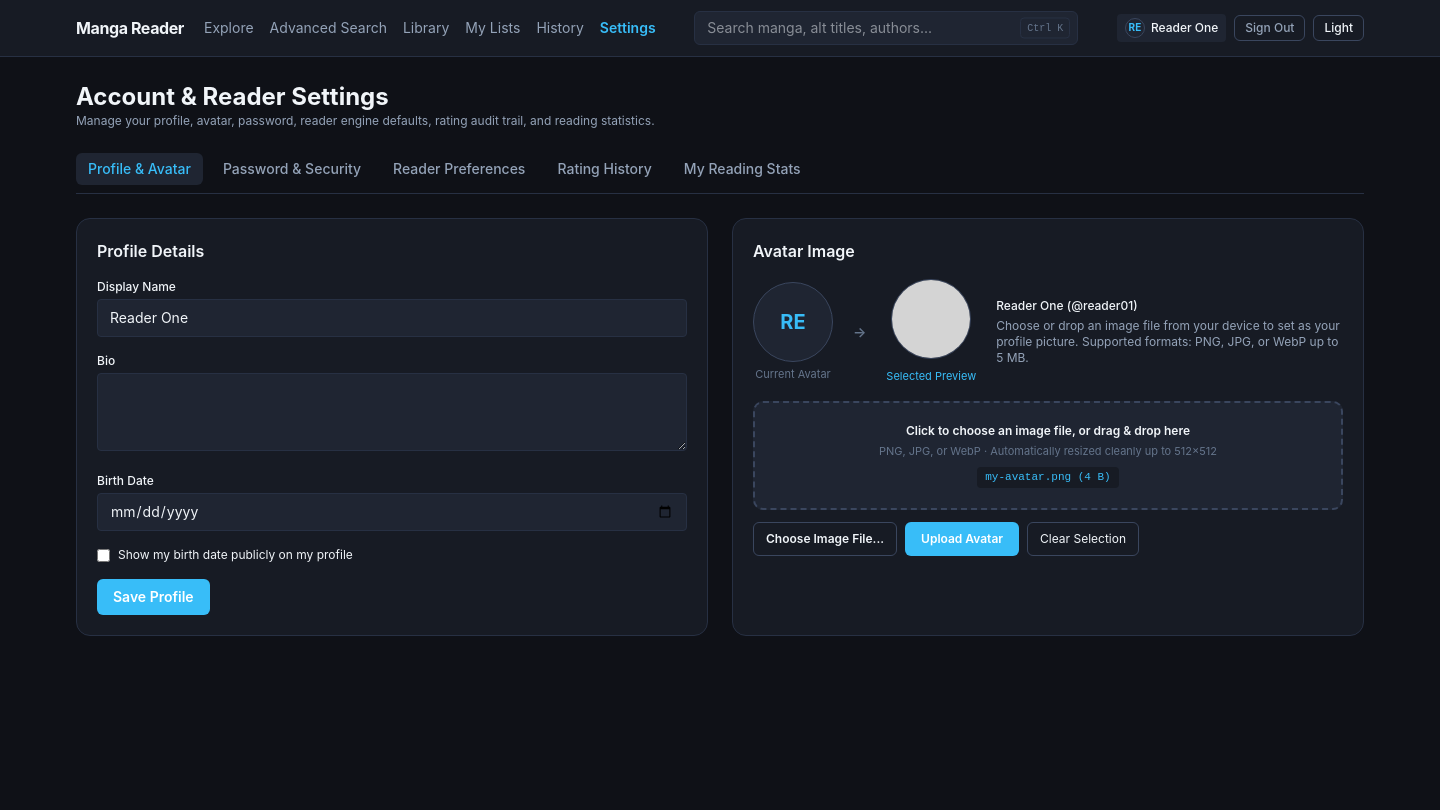
it: Manga Reader Frontend Application › uploads a chosen image file as avatar in AccountSettingsPage without presets
This screenshot has width=1440, height=810.
Earlier steps of the test are not shown.
Expected: the text "Current Avatar" is shown, x1=753 y1=366 x2=833 y2=382
Expected: the text "my-avatar.png (4 B)" is shown, x1=977 y1=467 x2=1119 y2=488
Click the button "Upload Avatar" at {"x": 962, "y": 538}, box x1=905 y1=522 x2=1019 y2=556
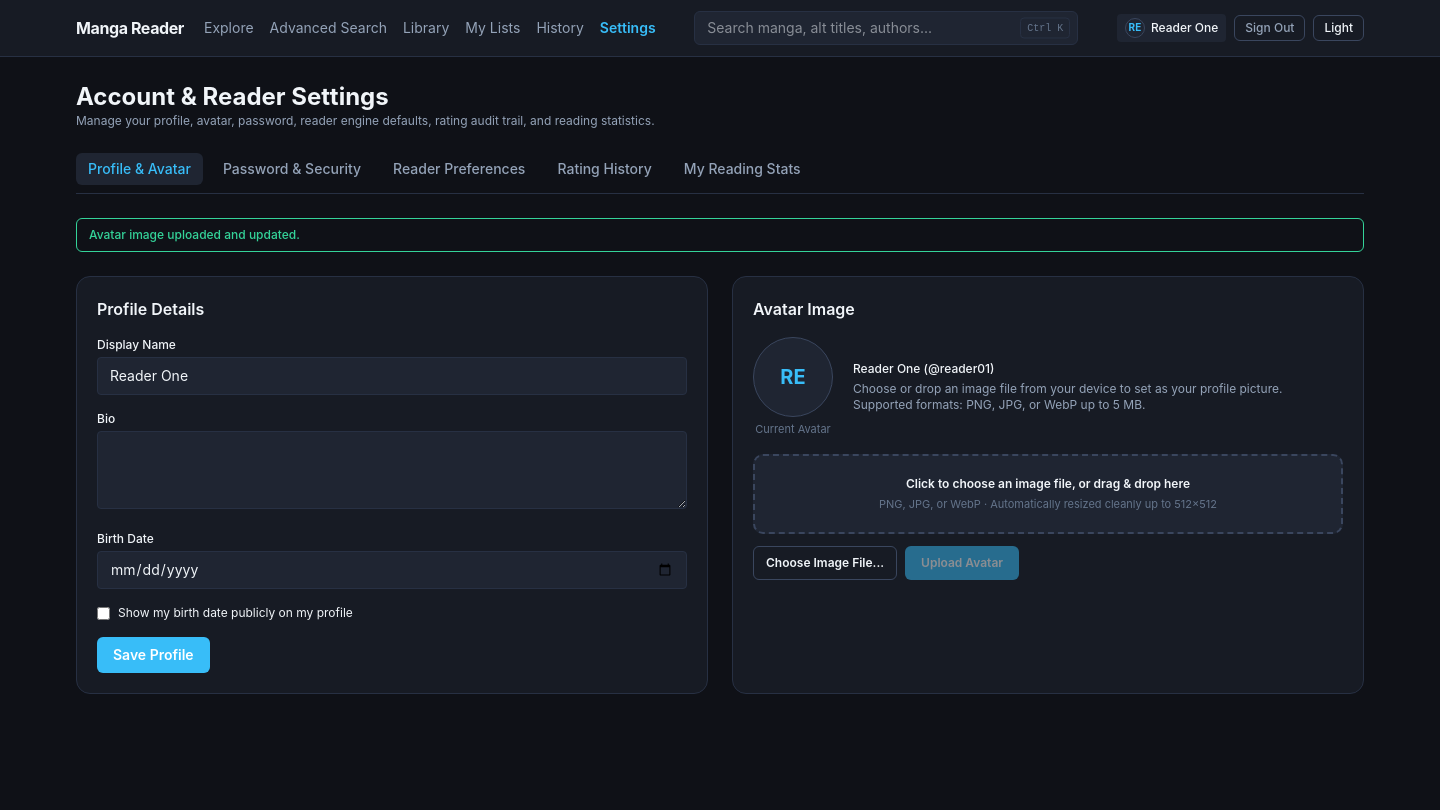
Expected: the text "Avatar image uploaded and updated." is shown, x1=76 y1=218 x2=1364 y2=252
